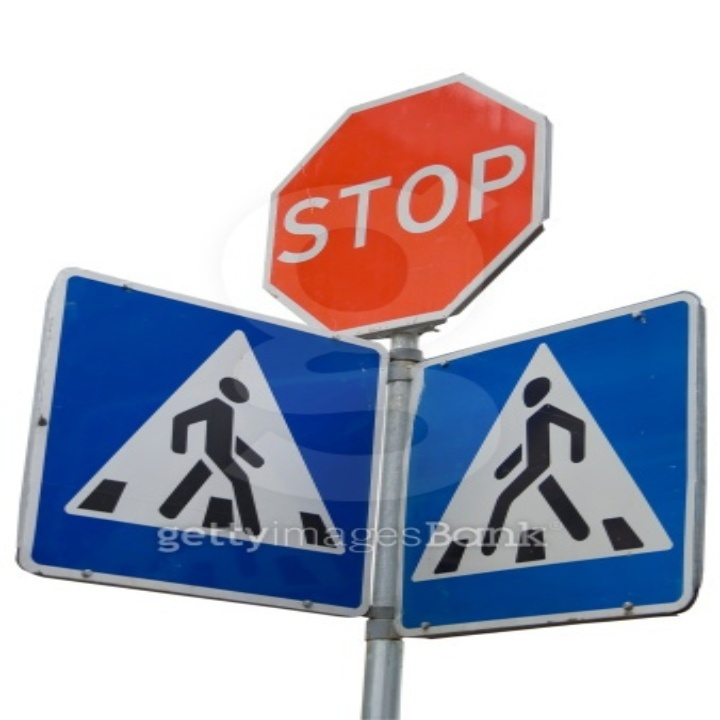cross: (473, 375, 595, 555), (155, 365, 275, 535)
